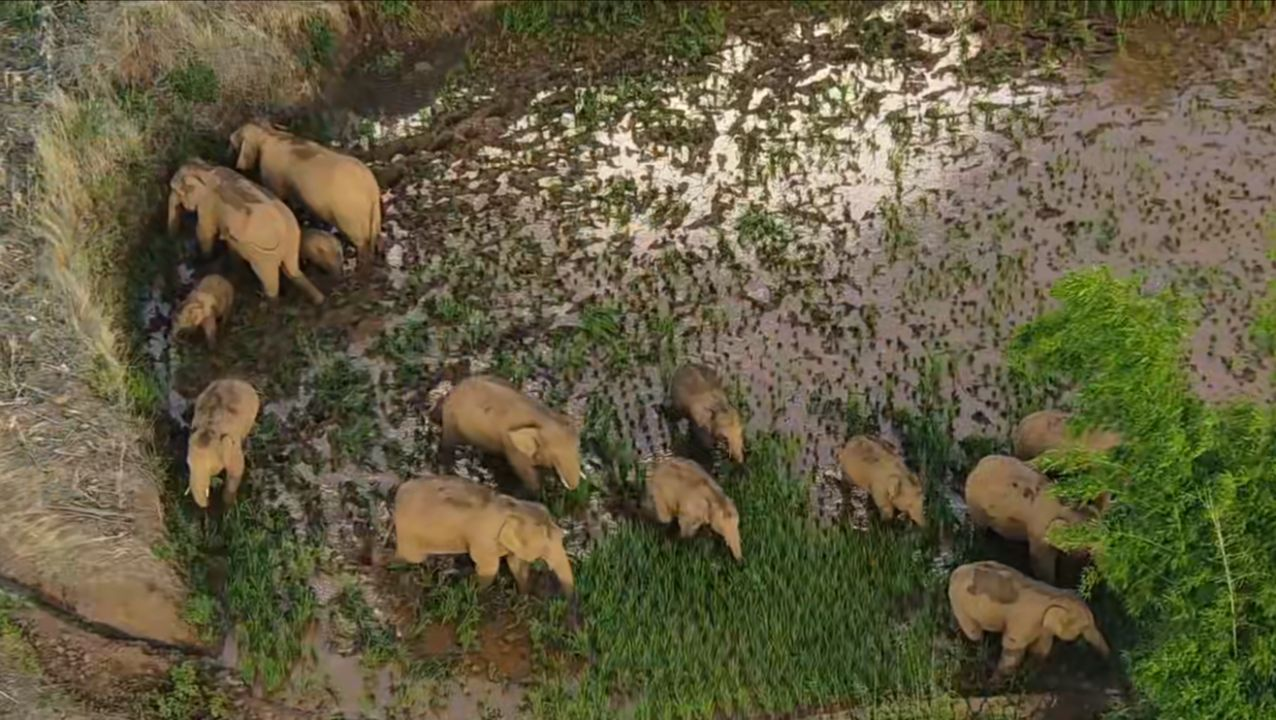Adult Elephant: (370, 466, 586, 611), (221, 105, 401, 245), (149, 147, 296, 287), (958, 442, 1107, 576), (435, 357, 575, 497), (950, 560, 1101, 672), (985, 377, 1131, 475), (182, 357, 260, 505)
Baby Elephant: (643, 451, 755, 580), (832, 425, 930, 530), (667, 354, 755, 462), (166, 271, 238, 339), (291, 219, 350, 276)
